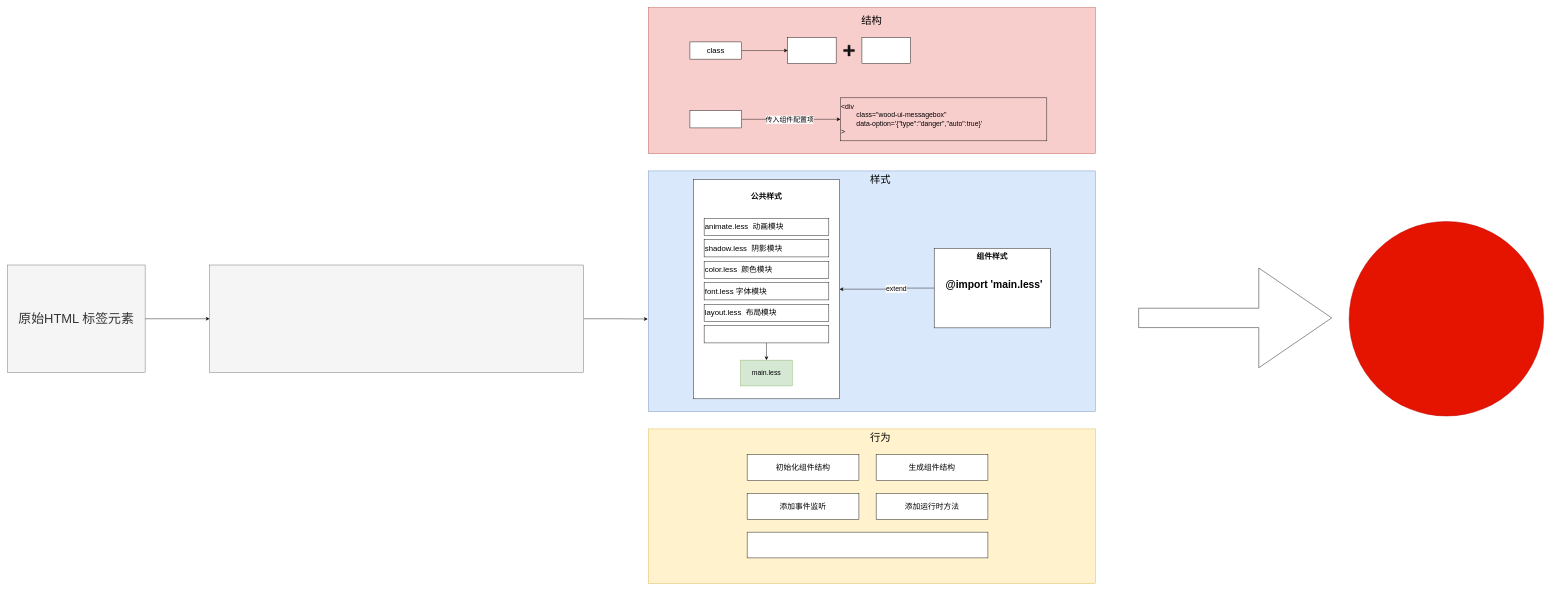
This 1551x591 diagram has some shape labels left out. The centre of each missing label's shape, as x and y in pixels:
border.less 边框模块: point (766, 334)
data-option: point (716, 119)
Javascript 通过 【wdu-组件唯一标识】获取到元素: point (396, 319)
wdu-: point (811, 50)
Wood-UI 元素: point (1446, 318)
添加销毁机制: point (867, 545)
组件标识: point (886, 50)
